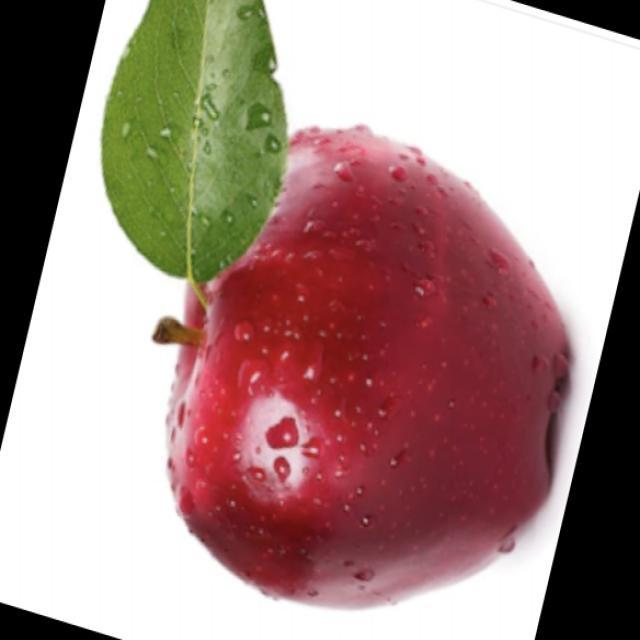Fresh Apple: (122, 121, 563, 576)
